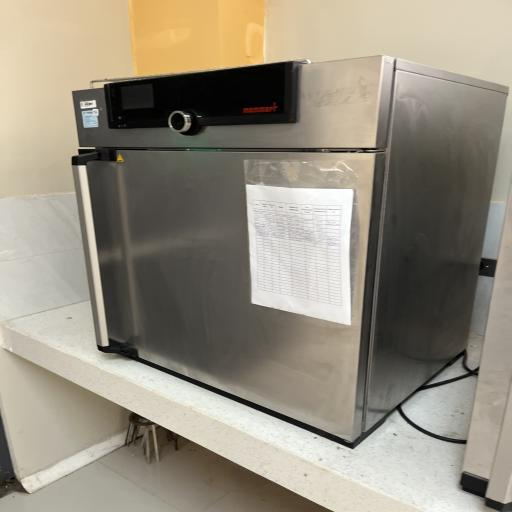Memmert_Unidad2: (59, 44, 497, 449)
